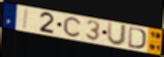2: (39, 12, 55, 35)
3: (85, 20, 101, 43)
C: (63, 17, 82, 38)
D: (128, 26, 148, 50)
I: (22, 8, 30, 31)
U: (106, 21, 129, 47)
